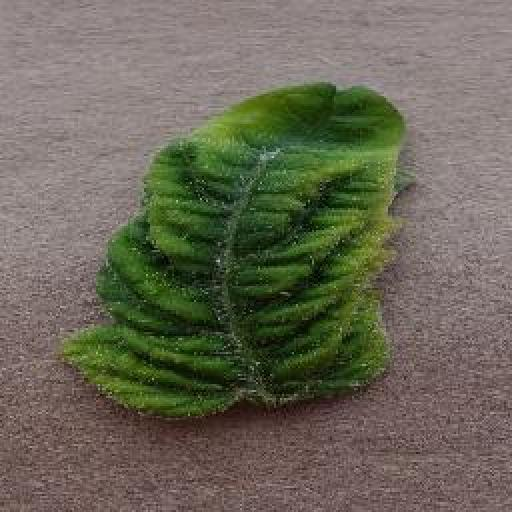disease_tomato: (58, 79, 409, 420)
